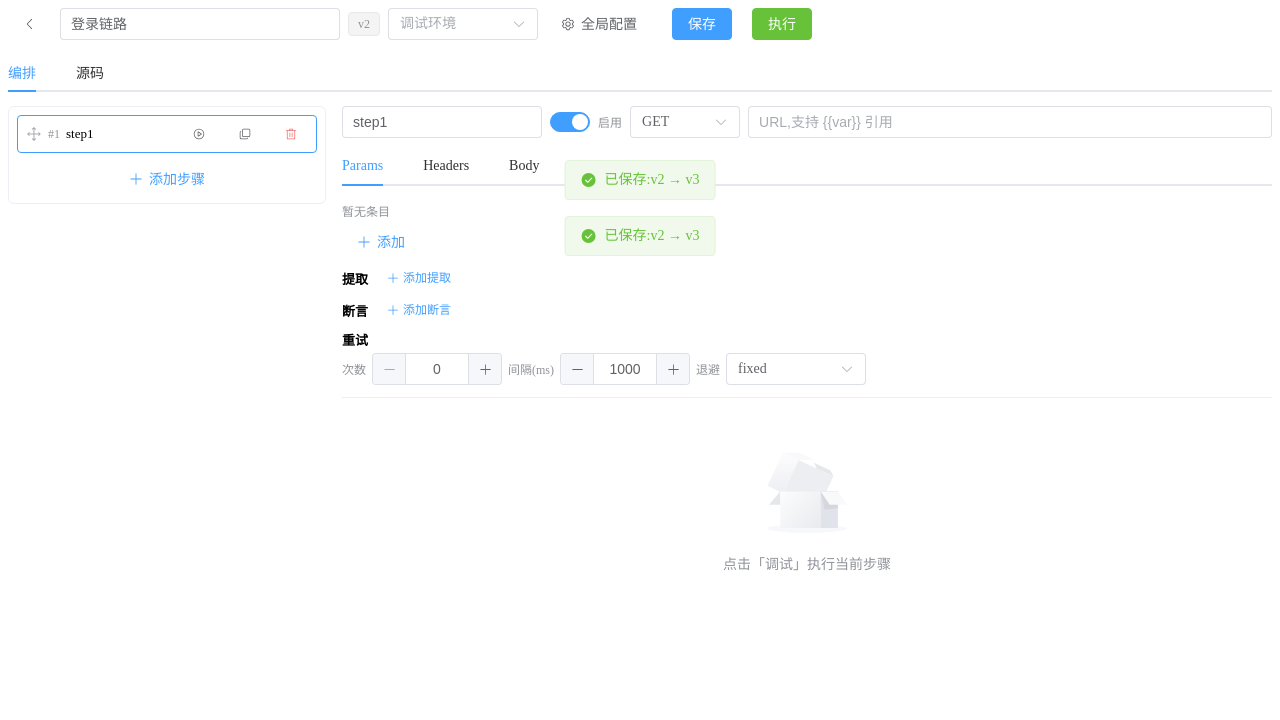
it: CaseDetailView › 保存返回 dsl_invalid:回显每条校验错误,不弹全局错误也能看到明细
Click the button with class "save-btn" at point(702, 24), box x1=672 y1=8 x2=732 y2=40
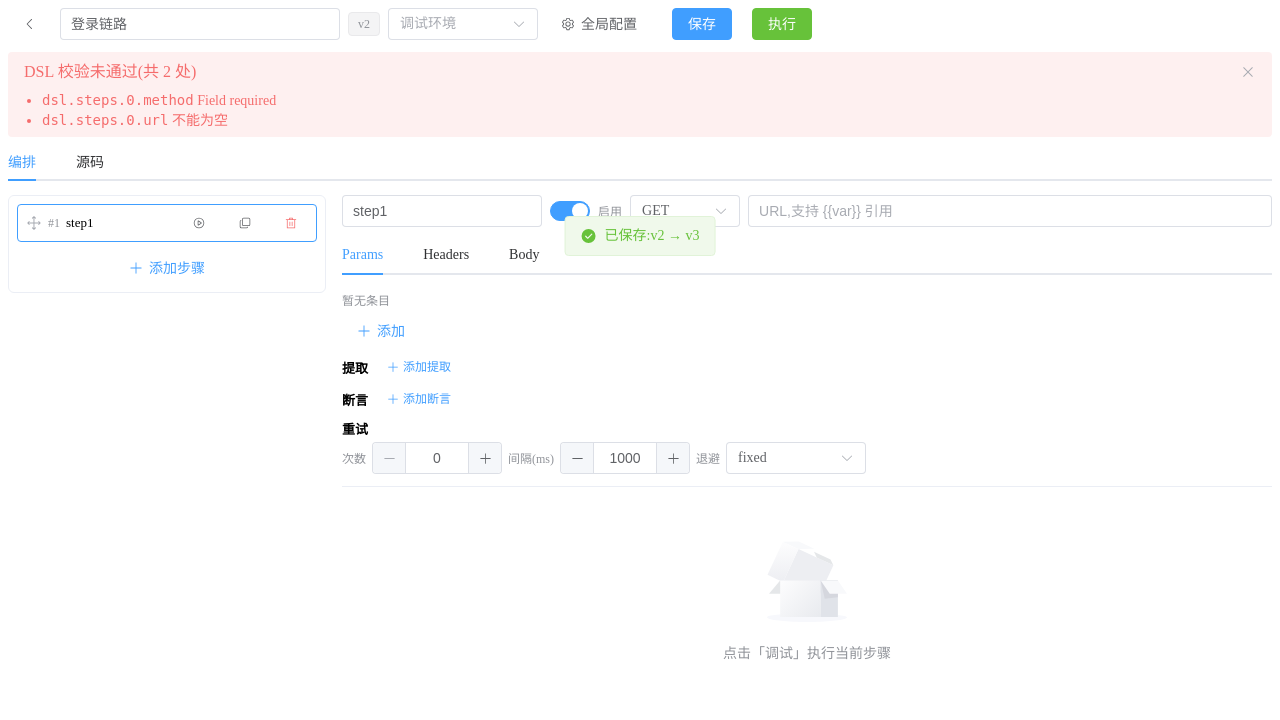
Expected: the number of list items is 2, x1=42 y1=92 x2=276 y2=109; x1=42 y1=112 x2=228 y2=128
Expected: the list item "dsl.steps.0.method Field required" is shown, x1=42 y1=92 x2=276 y2=109
Expected: the list item "dsl.steps.0.url 不能为空" is shown, x1=42 y1=112 x2=228 y2=128
